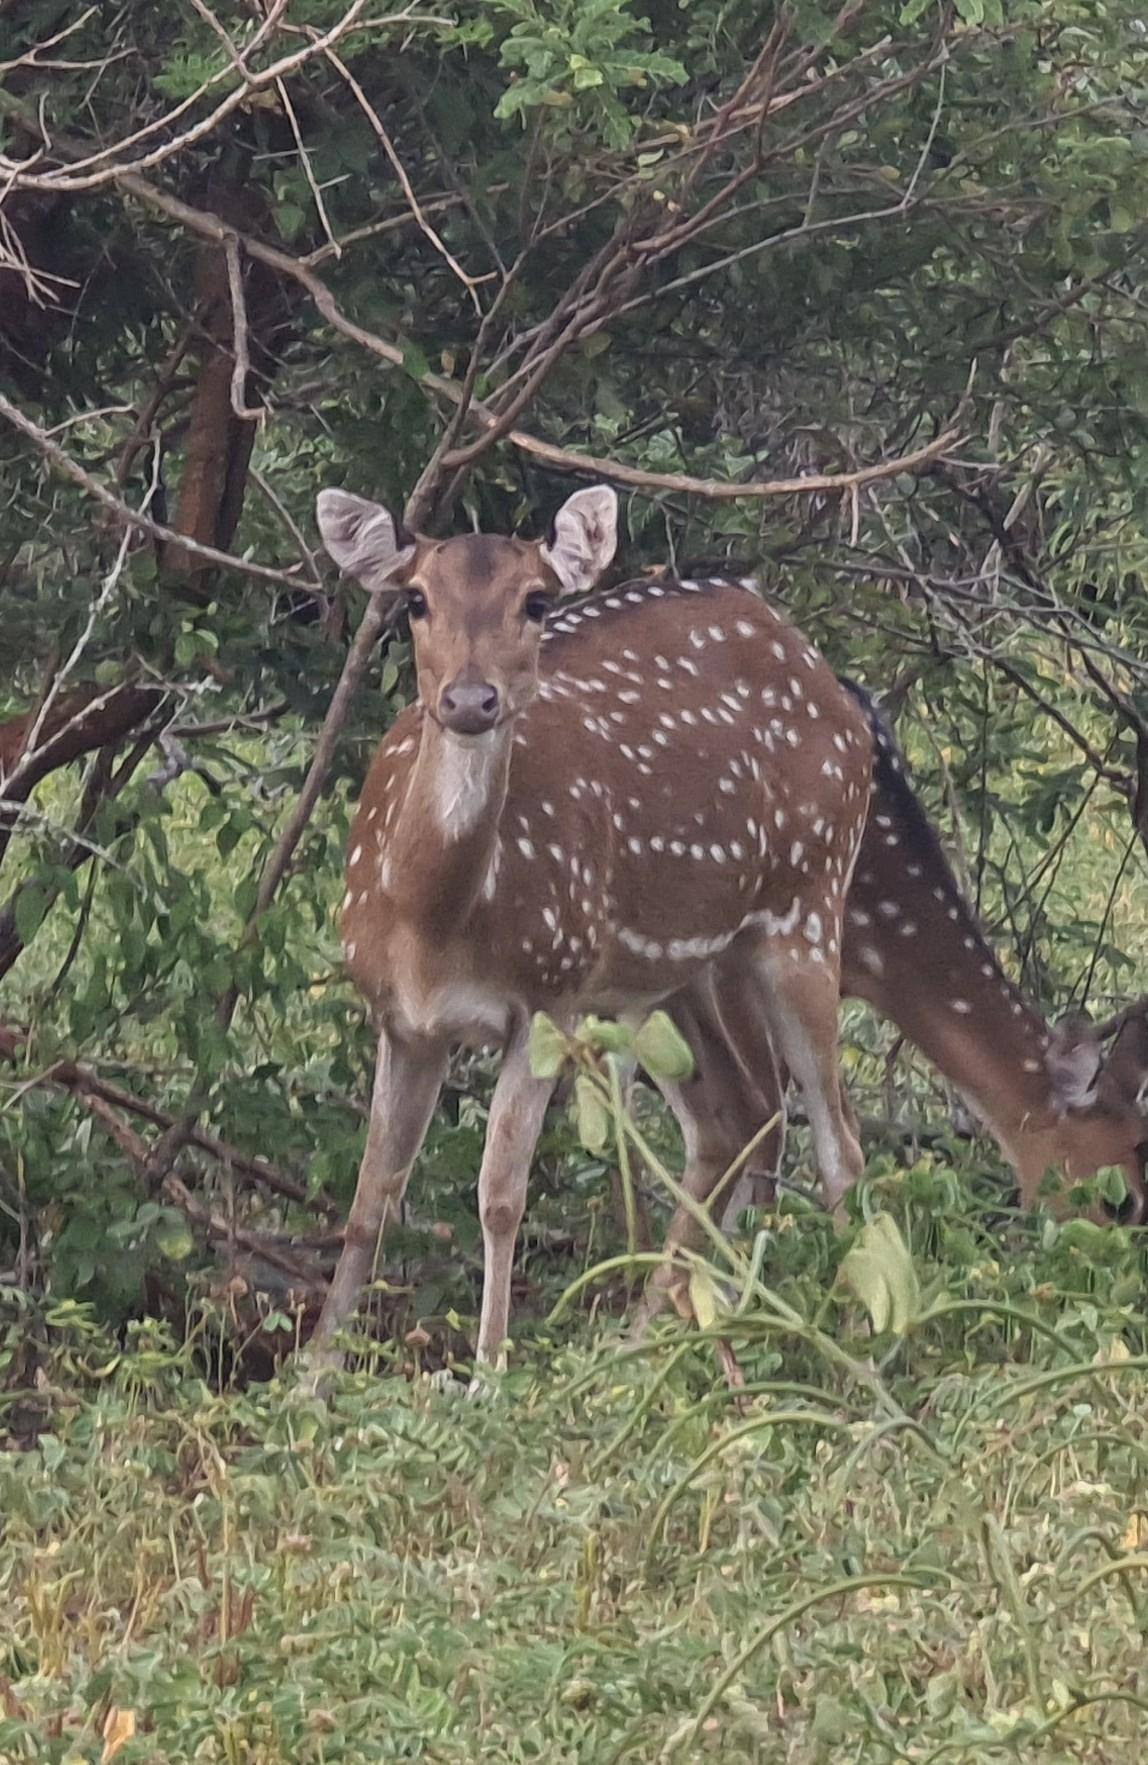Deer: (317, 486, 873, 1364)
